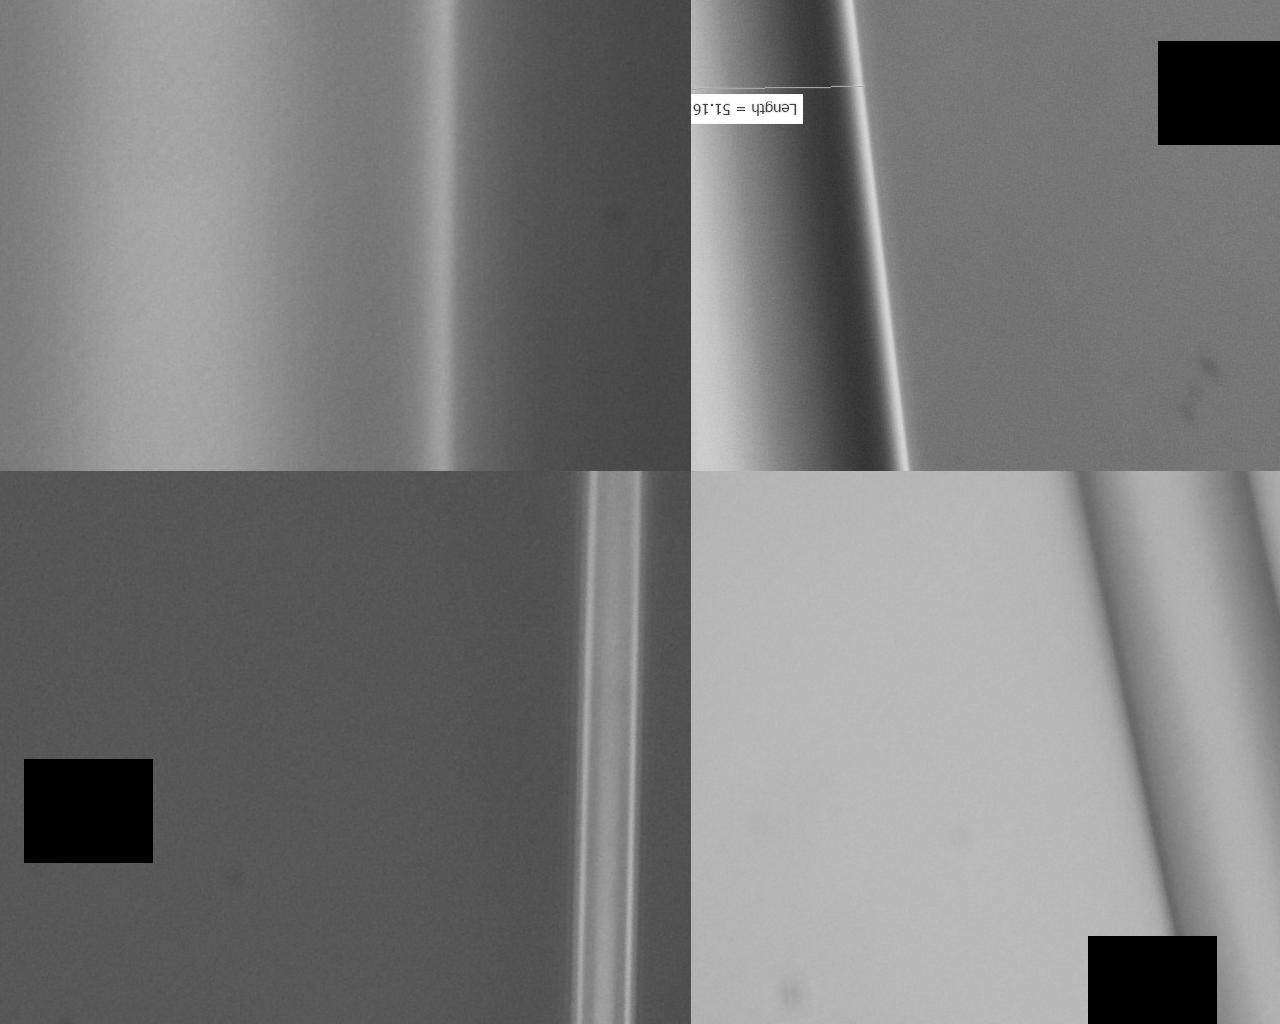fiber: (614, 551, 1280, 962), (614, 0, 1014, 460), (106, 232, 614, 438)
